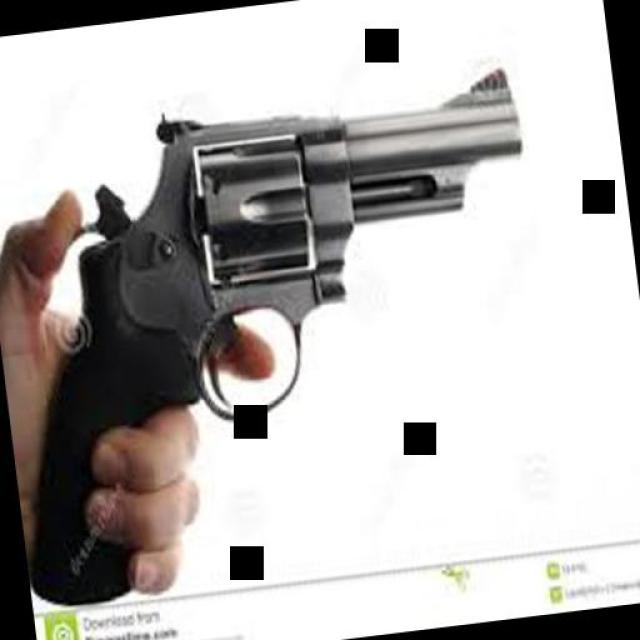gun: (0, 66, 562, 595)
